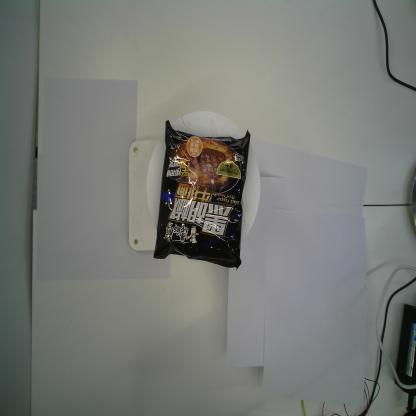Instant Noodles: (152, 121, 251, 271)
